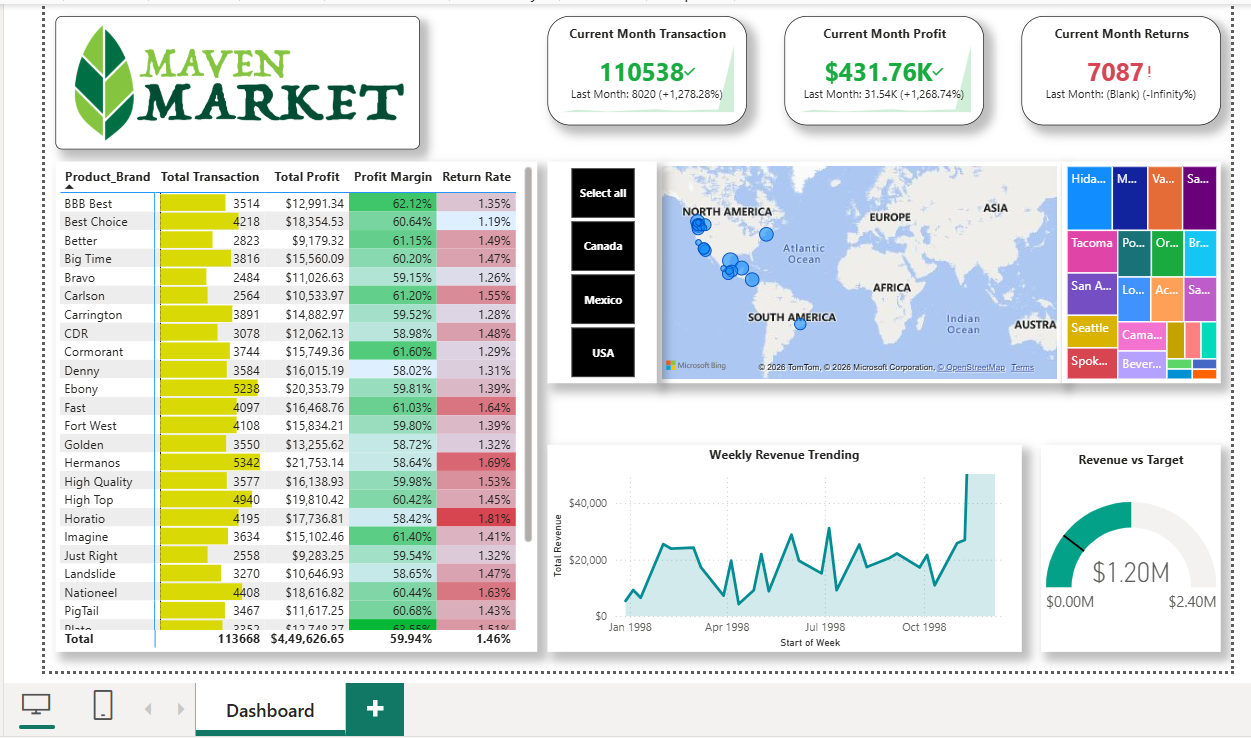

Layout of this report page (visuals, bound fields, positions):
{"tool":"powerbi","page":{"name":"Dashboard","canvas":[1280,720],"ordinal":0},"visuals":[{"type":"image","box":[11.3,13,393.5,144.1],"z":0},{"type":"pivotTable","fields":{"Rows":["Products.product_brand"],"Values":["Measure.Total Transaction","Measure.Total Profit","Measure.Profit Margin","Measure.Return Rate"]},"box":[11.3,170,519.8,529.5],"z":1000},{"type":"kpi","title":"Current Month Transaction","fields":{"Goal":["Measure.Last Month Transaction"],"Indicator":["Measure.Total Transaction"],"TrendLine":["Calendar.Start of Month"]},"box":[542.4,13,215.4,118.2],"z":2000},{"type":"kpi","title":"Current Month Profit","fields":{"Goal":["Measure.Last Month Profit"],"TrendLine":["Calendar.Start of Month"],"Indicator":["Measure.Total Profit"]},"box":[798.3,13,215.4,118.2],"z":3000},{"type":"kpi","title":"Current Month Returns","fields":{"TrendLine":["Calendar.Start of Month"],"Indicator":["Measure.Total Returns"],"Goal":["Measure.Last Month Returns"]},"box":[1054.1,13,215.4,118.2],"z":4000},{"type":"map","fields":{"Category":["Stores.store_city"],"Size":["Measure.Total Transaction"]},"box":[660.6,170,437.2,239.6],"z":5000},{"type":"slicer","fields":{"Values":["Stores.store_country"]},"box":[542.4,170,118.2,239.6],"z":6000},{"type":"treemap","fields":{"Group":["Stores.store_city","Stores.store_state","Stores.store_country"],"Values":["Measure.Total Transaction"]},"box":[1097.8,170,171.6,239.6],"z":7000},{"type":"lineChart","title":"Weekly Revenue Trending","fields":{"Category":["Calendar.Start of Week"],"Y":["Measure.Total Revenue"]},"box":[542.4,476.1,511.7,223.5],"z":8000},{"type":"gauge","title":"Revenue vs Target","fields":{"Y":["Measure.Total Revenue"],"TargetValue":["Measure.Revenue Target"]},"box":[1075.2,476.1,194.3,223.5],"z":9000}]}

Visuals, with their boxes on the page's 1280x720 design canvas (x1, y1, x2, y2). These are canvas units, not pixel positions in the 1251x738 screenshot, which may show the page scaled, cropped or inside an application window:
image: <box>11,13,405,157</box>
pivotTable - Products.product_brand x Measure.Total Transaction: <box>11,170,531,700</box>
"Current Month Transaction" kpi: <box>542,13,758,131</box>
"Current Month Profit" kpi: <box>798,13,1014,131</box>
"Current Month Returns" kpi: <box>1054,13,1270,131</box>
map - Stores.store_city x Measure.Total Transaction: <box>661,170,1098,410</box>
slicer - Stores.store_country: <box>542,170,661,410</box>
treemap - Stores.store_city x Stores.store_state: <box>1098,170,1269,410</box>
"Weekly Revenue Trending" lineChart: <box>542,476,1054,700</box>
"Revenue vs Target" gauge: <box>1075,476,1270,700</box>
